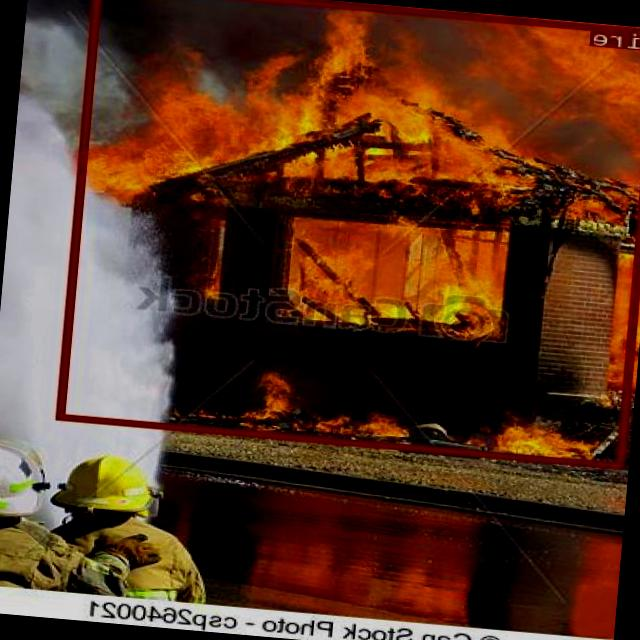fire: (58, 0, 640, 467)
